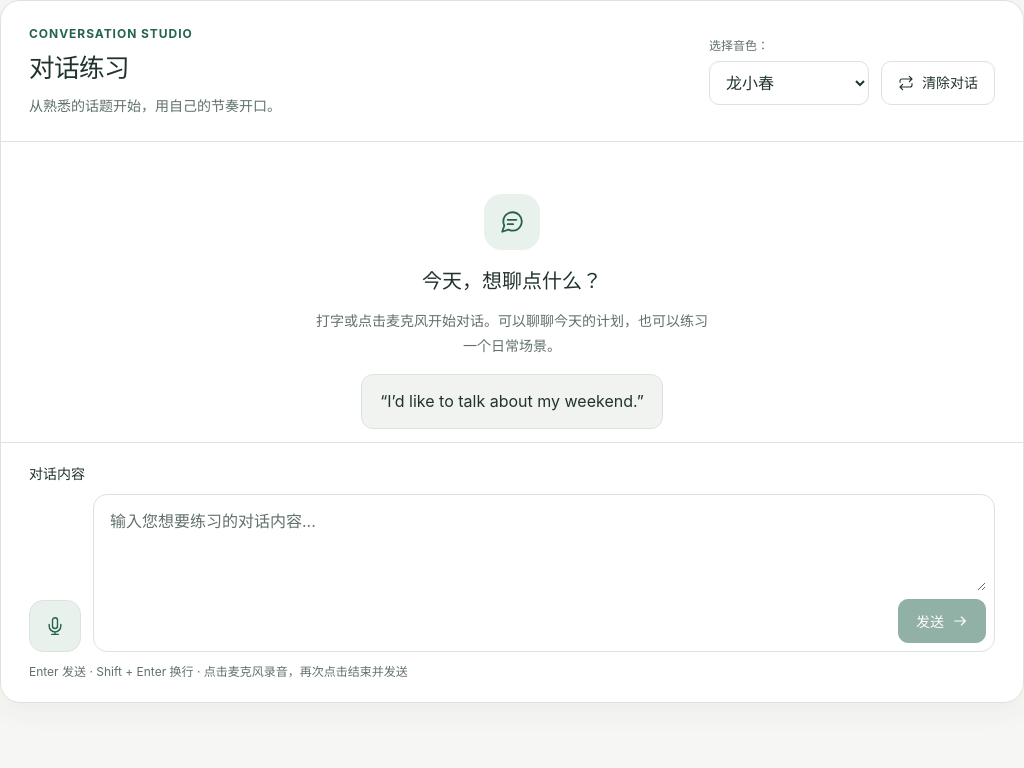
Scenario: chat concurrency and resource ownership › ASR unavailable does not invent recognized text or silently show a success
Click the button named "开始录音" at (55, 626), box left=29, top=600, right=81, bottom=652
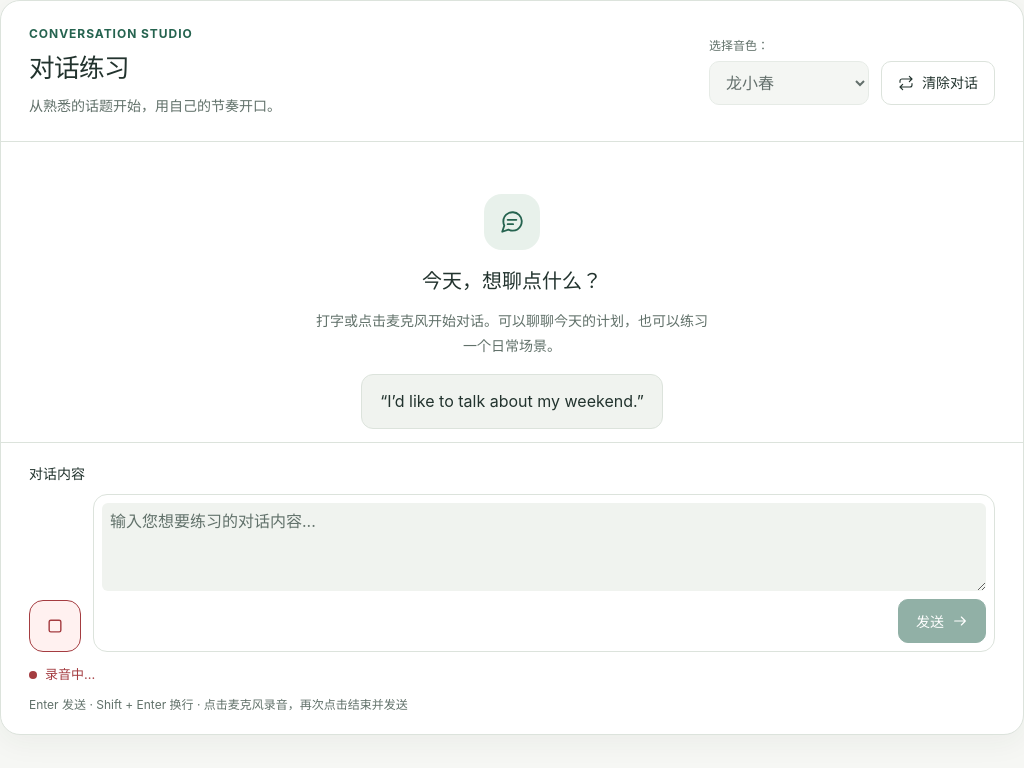
Result: the button named "停止录音" is shown
Click the button named "停止录音" at (55, 626), box left=29, top=600, right=81, bottom=652
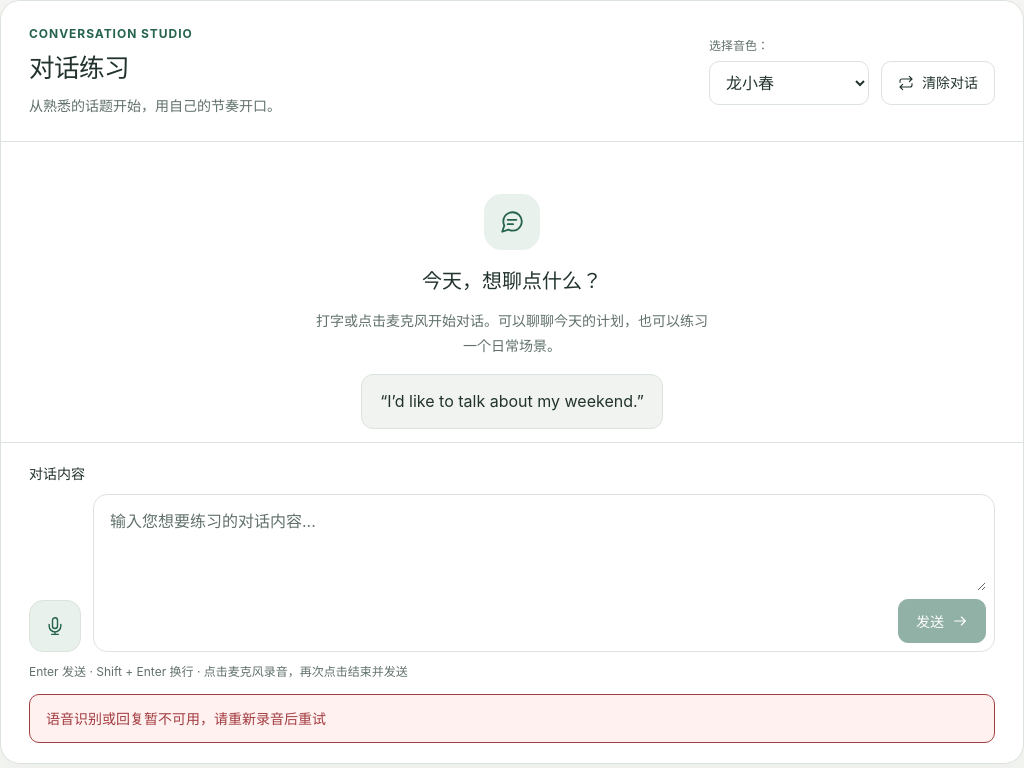
Result: the message shows "语音识别或回复暂不可用" at left=46, top=710, right=326, bottom=727
